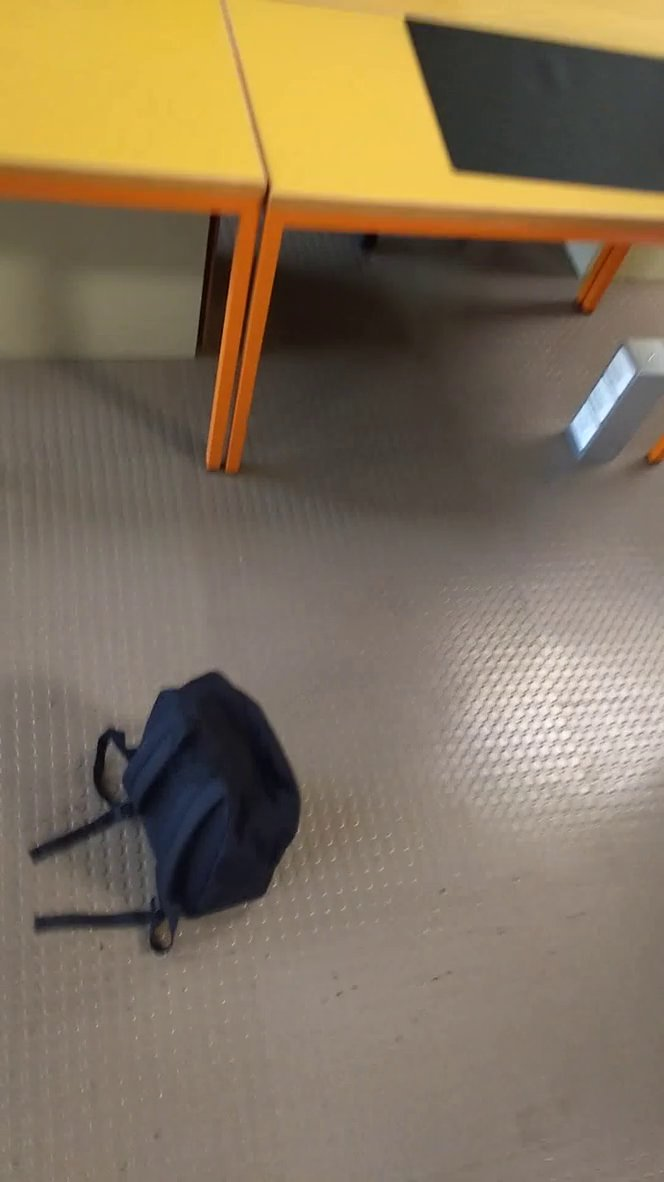bag: (26, 667, 315, 964)
